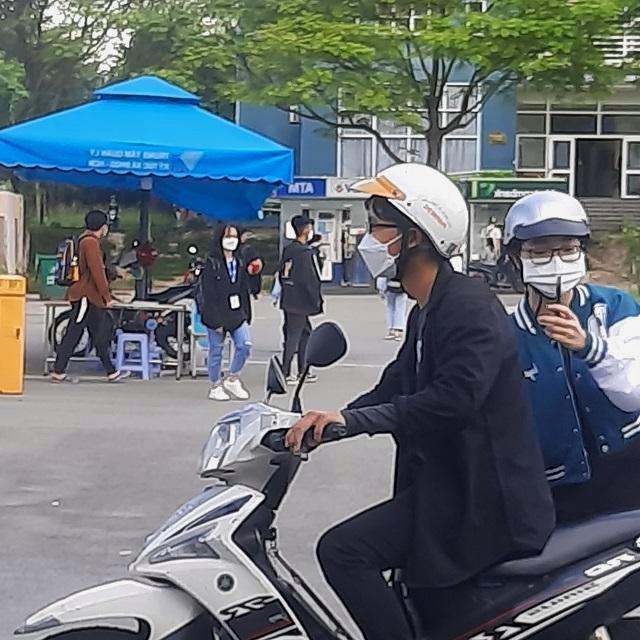Helmet: (356, 160, 470, 288), (513, 194, 587, 298)
